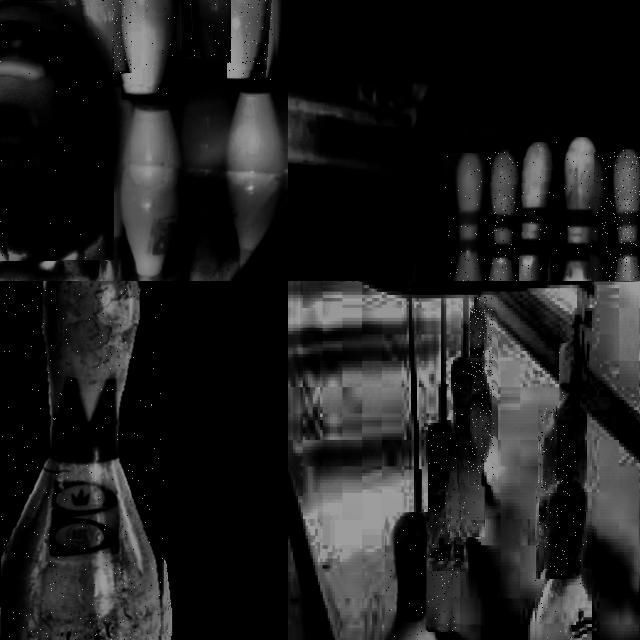bowling-ball: (0, 1, 112, 261)
bowling-pins: (2, 281, 164, 640), (536, 487, 589, 640), (539, 407, 576, 576), (429, 424, 458, 632), (394, 513, 439, 640), (122, 0, 178, 97), (515, 143, 554, 281), (453, 359, 483, 537), (563, 137, 598, 281), (470, 298, 494, 485), (488, 152, 519, 281), (454, 153, 485, 281), (228, 0, 275, 81), (85, 0, 128, 74), (617, 150, 640, 281), (191, 0, 231, 63), (595, 155, 610, 281), (559, 343, 573, 420), (543, 428, 557, 493)
